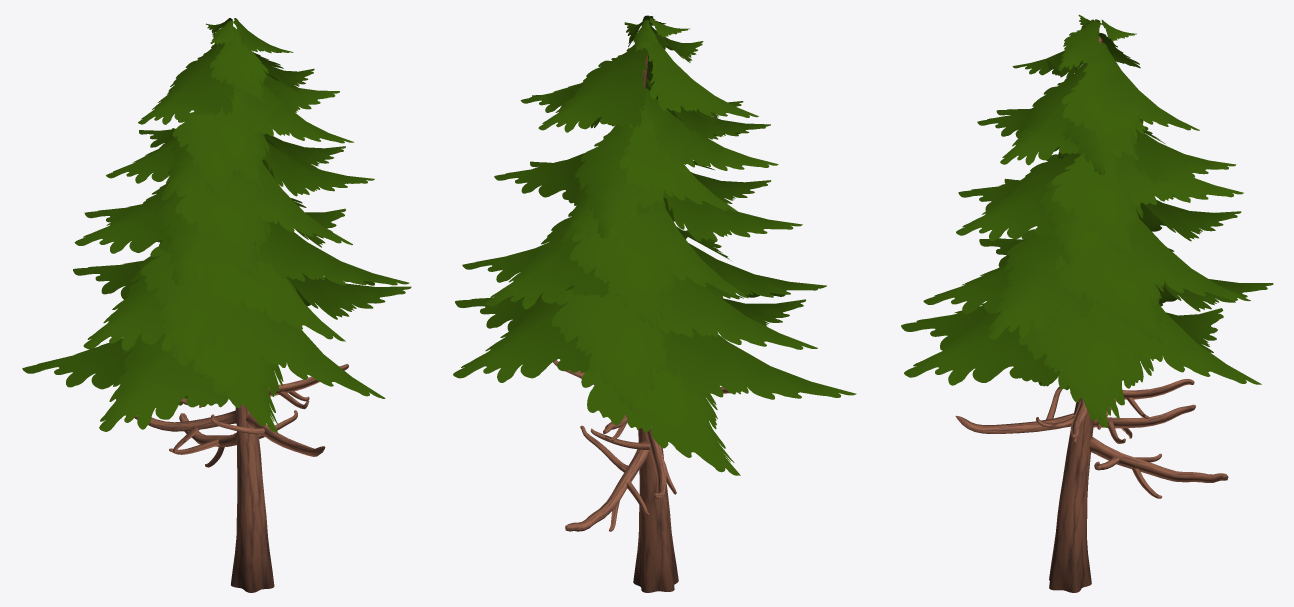
The model's file is pine_2.glb.
3 views of the same model, side by side, from view 1: azimuth 30°, elevation 25°; view 2: azimuth 150°, elevation 25°; view 3: azimuth 270°, elevation 25° (orthographic). The views are drawn at different scales.
Visible parts, largest first — view 1: Pine_1; view 2: Pine_1; view 3: Pine_1.
Boxes of the visible parts, left/top/right/bottom form: Pine_1: left=22, top=18, right=411, bottom=592; Pine_1: left=453, top=15, right=856, bottom=592; Pine_1: left=901, top=14, right=1273, bottom=592.
Size of the model in its own units: 4.94 by 7.32 by 4.54.
2 materials, 2 textured.
